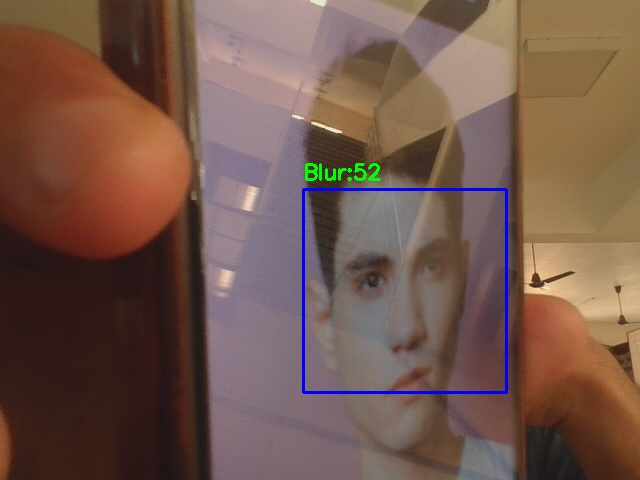fake: (303, 189, 506, 392)
